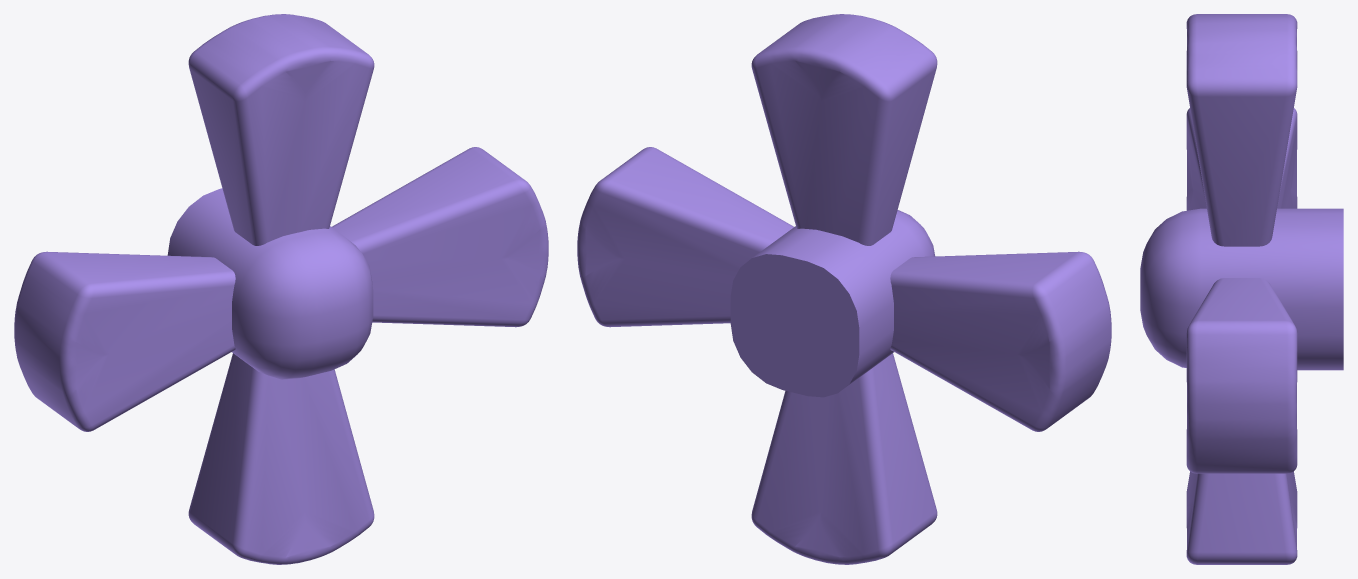
The model's file is Fan.fbx.
3 renders of one model, left to right at view 1: azimuth 30°, elevation 25°; view 2: azimuth 150°, elevation 25°; view 3: azimuth 270°, elevation 25°, orthographic. The views are drawn at different scales.
Parts seen in each view (by area): view 1: Fan; view 2: Fan; view 3: Fan.
Part boxes in pixels (x1,y1,x2,y2): Fan: (14,14,548,564); Fan: (577,14,1111,564); Fan: (1140,14,1343,564).
Size of the model in its own units: 28.44 by 28.44 by 10.
